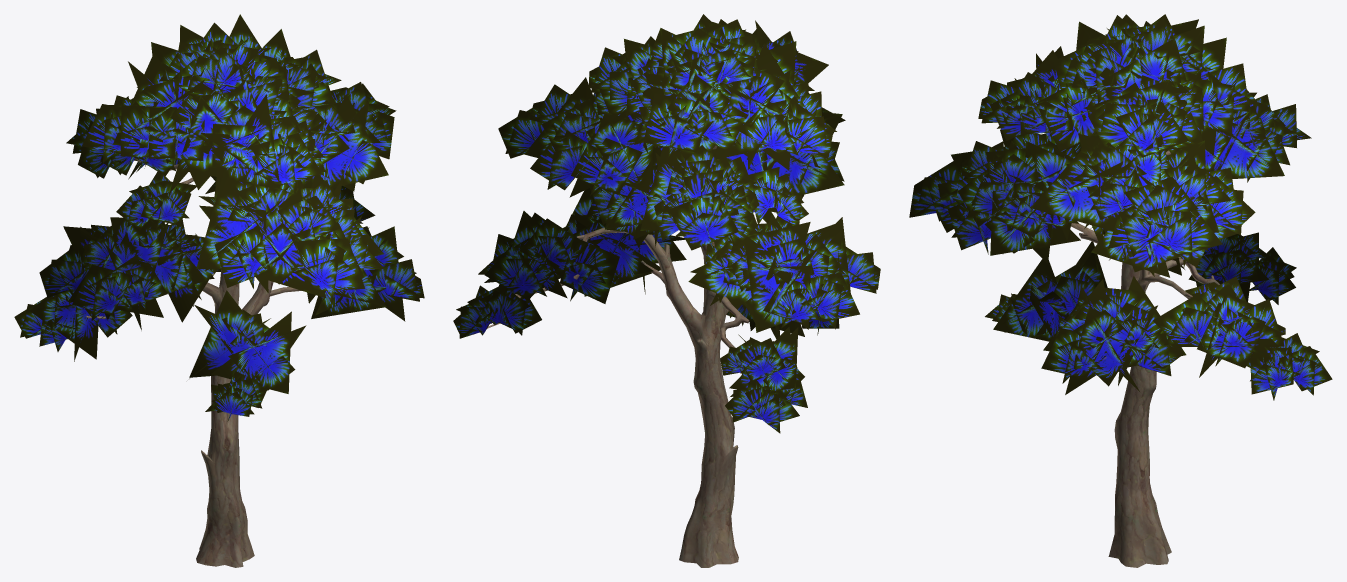
File: Homeworld_Exterior_Cyg_Plant_Tree_Songshu_01_Lod0.fbx
The picture shows the model from 3 angles, left to right: view 1: azimuth 30°, elevation 25°; view 2: azimuth 150°, elevation 25°; view 3: azimuth 270°, elevation 25°; orthographic projection. The views are drawn at different scales.
Parts seen in each view (by area): view 1: Area_Cyg_Tree_Common_Pt_LutTree_03_Leaf_Lod0, Area_Cyg_Tree_Common_Pt_LutTree_03_Bark_Lod0; view 2: Area_Cyg_Tree_Common_Pt_LutTree_03_Leaf_Lod0, Area_Cyg_Tree_Common_Pt_LutTree_03_Bark_Lod0; view 3: Area_Cyg_Tree_Common_Pt_LutTree_03_Leaf_Lod0, Area_Cyg_Tree_Common_Pt_LutTree_03_Bark_Lod0.
Boxes of the visible parts, <box> form: Area_Cyg_Tree_Common_Pt_LutTree_03_Leaf_Lod0: <box>14,14,424,421</box>; Area_Cyg_Tree_Common_Pt_LutTree_03_Bark_Lod0: <box>74,156,337,567</box>; Area_Cyg_Tree_Common_Pt_LutTree_03_Leaf_Lod0: <box>453,14,880,433</box>; Area_Cyg_Tree_Common_Pt_LutTree_03_Bark_Lod0: <box>487,145,820,567</box>; Area_Cyg_Tree_Common_Pt_LutTree_03_Leaf_Lod0: <box>909,14,1332,400</box>; Area_Cyg_Tree_Common_Pt_LutTree_03_Bark_Lod0: <box>1071,150,1219,567</box>.
Size of the model in its own units: 11.61 by 16.55 by 11.82.
Materials: 2 (2 with a texture image).
